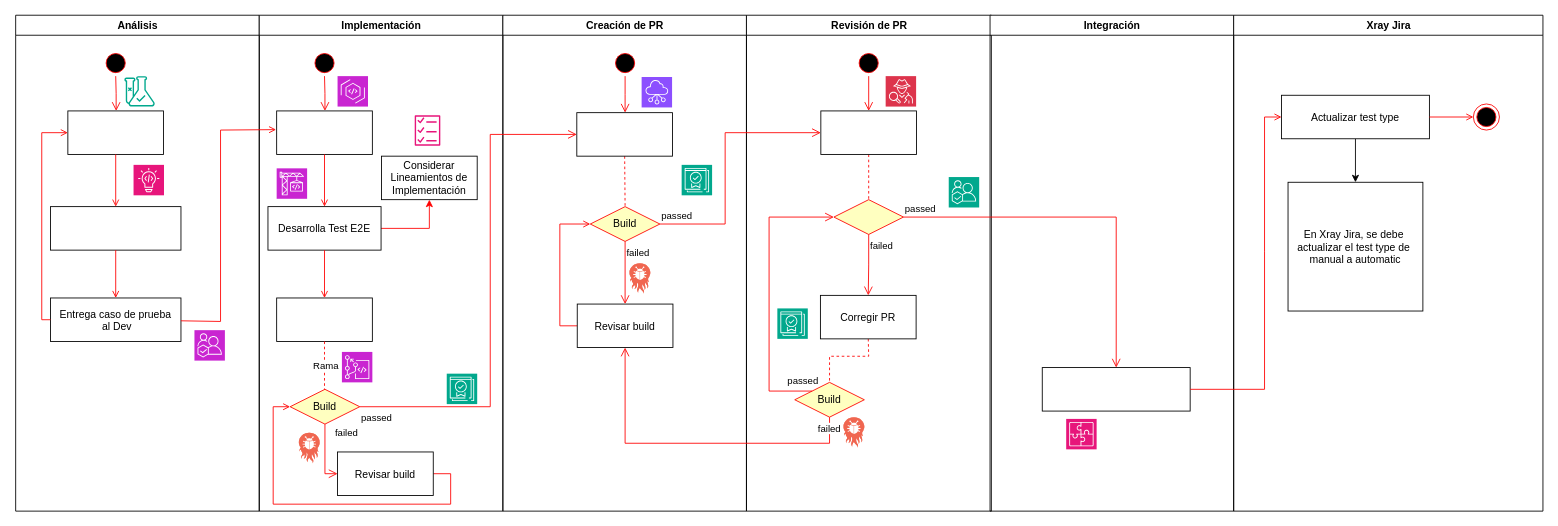
This 1558x526 diagram has some shape labels left out. Here are the shapes that lost their labels. From the top down, the centre of each, then its label:
(115,132): QA
(324,132): Dev
(624,134): Crear PR
(868,132): QE Review
(115,228): Elige caso de prueba a automatizar
(868,216): Revisión
(324,319): Subir test e2e al repositorio
(1115,389): Integración a develop
